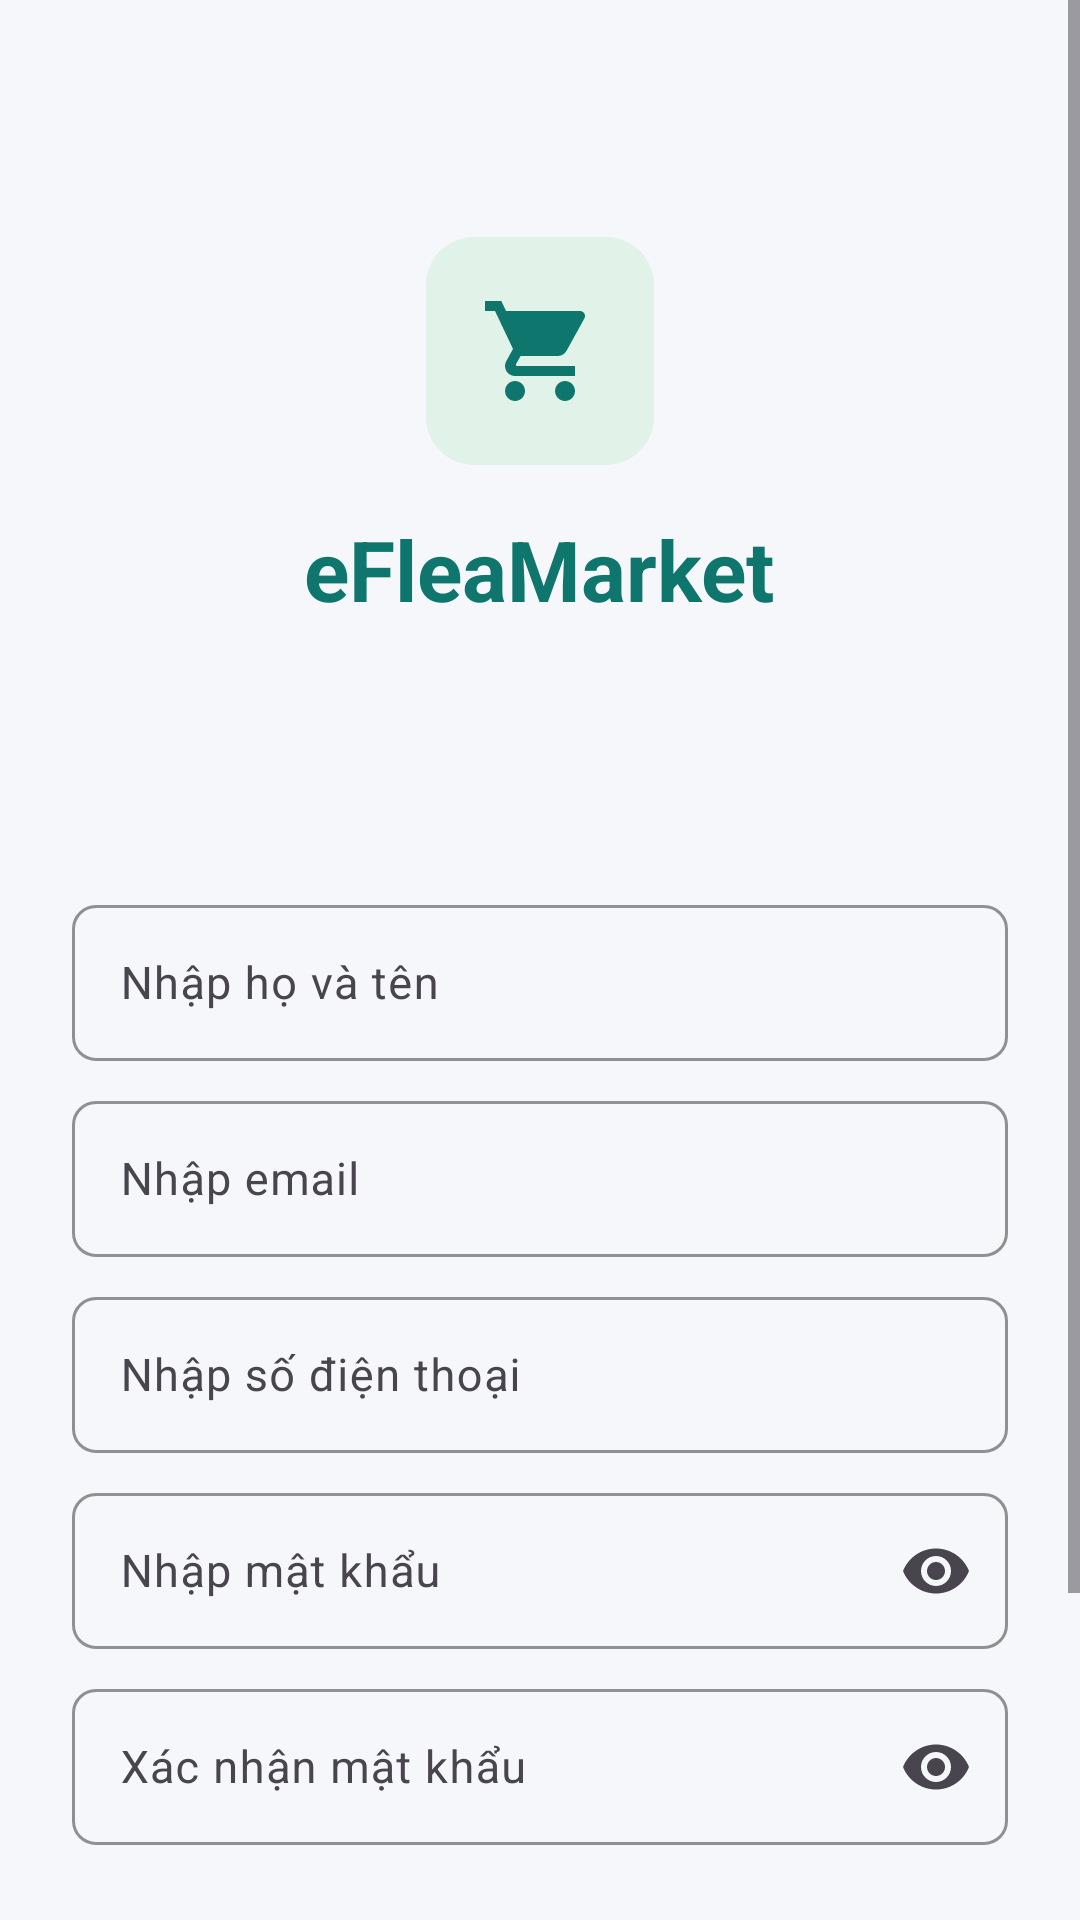

Where icons sit on this 1080 × 1920 app screen, as {"left": x1, "top": y1, "right": x2, "bottom": y2}:
shopping cart: {"left": 426, "top": 237, "right": 654, "bottom": 465}
